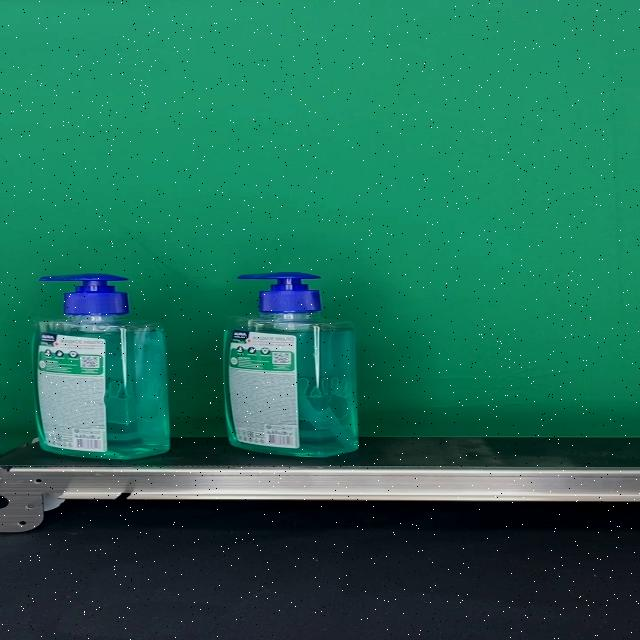Bottle: (31, 272, 171, 460), (223, 272, 360, 458)
Cap: (38, 272, 129, 315), (236, 272, 322, 313)
